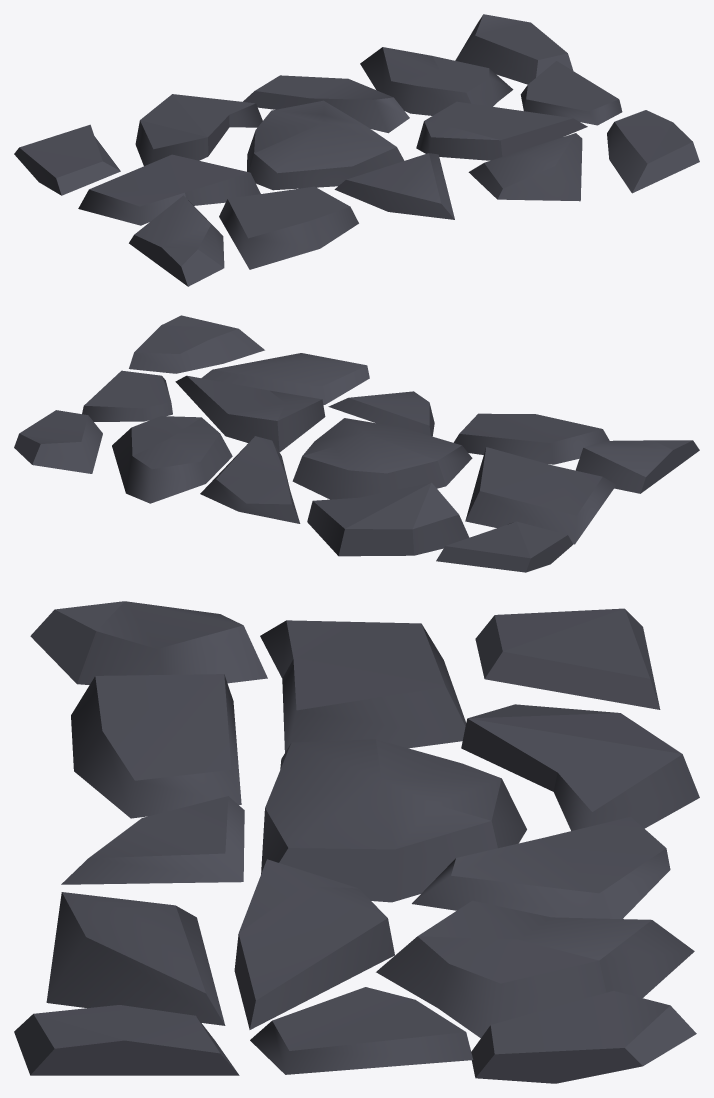
File: Stone_Path_H.fbx
The picture shows the model from 3 angles, top to bottom: view 1: azimuth 30°, elevation 25°; view 2: azimuth 150°, elevation 25°; view 3: azimuth 270°, elevation 25°; orthographic projection. The views are drawn at different scales.
Visible parts, largest first — view 1: Stone_Path_H; view 2: Stone_Path_H; view 3: Stone_Path_H.
Boxes of the visible parts, box(x1,y1,x2,y2) form: Stone_Path_H: box(14, 14, 699, 286); Stone_Path_H: box(14, 315, 699, 572); Stone_Path_H: box(14, 601, 699, 1083).
Bounding box in the file's own units: 147 × 15.06 × 96.81.
